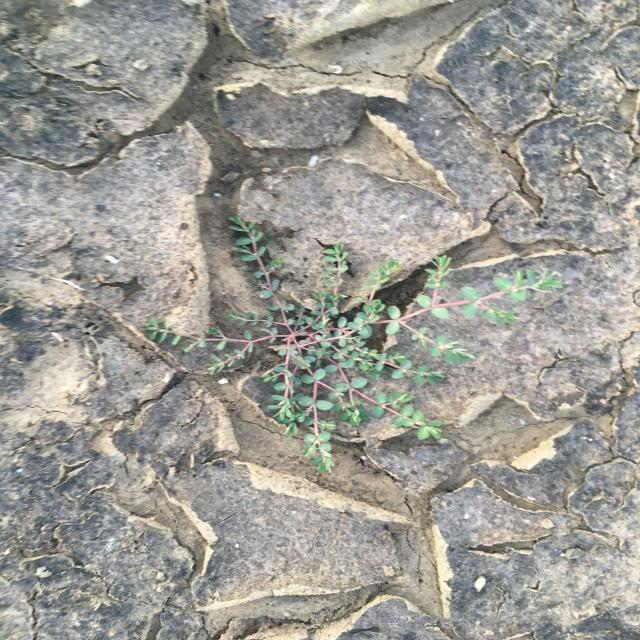SpottedSpurge: (144, 215, 566, 476)
